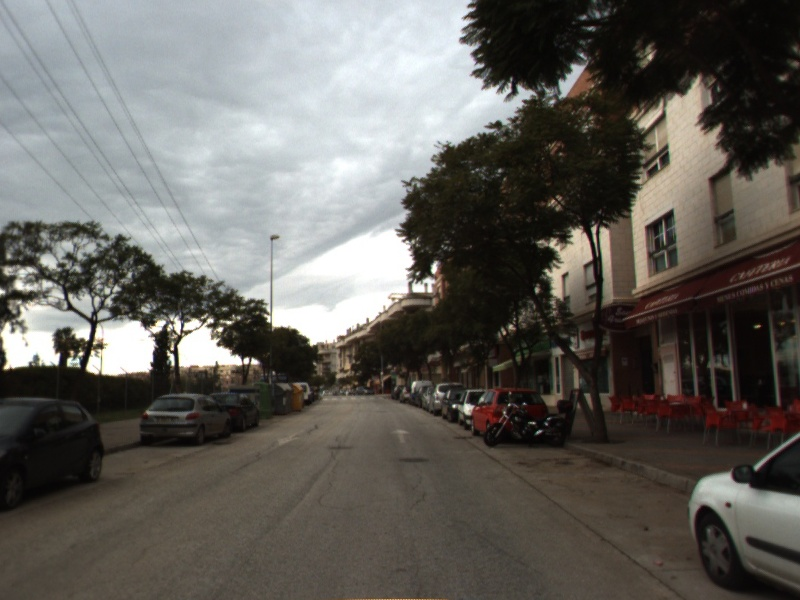STRAIGHT: (388, 426, 415, 445)
